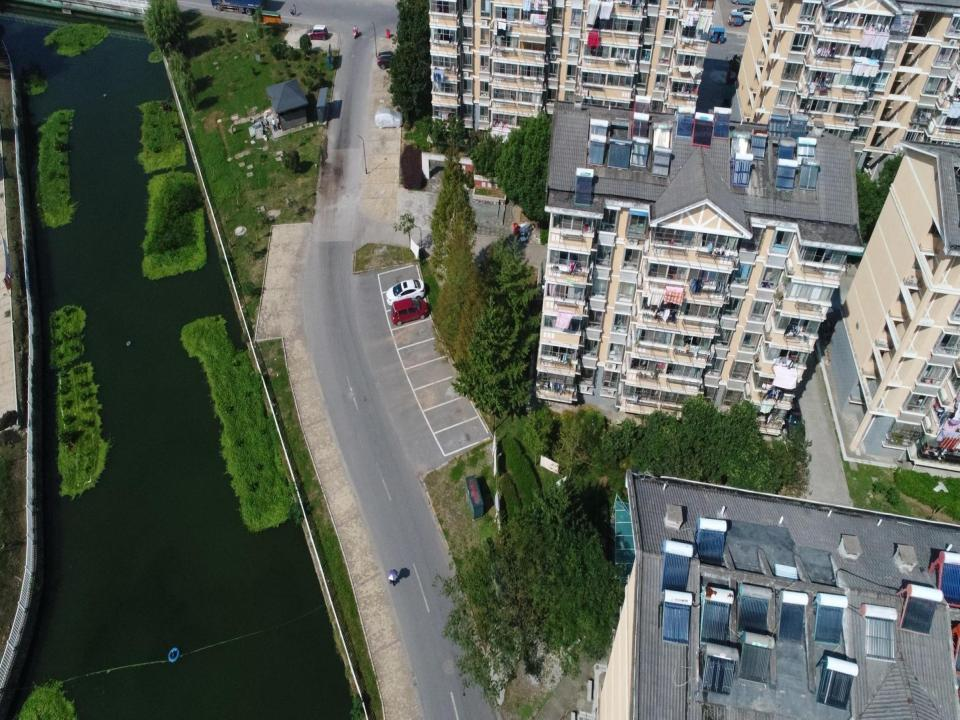car: (390, 297, 429, 326), (386, 277, 424, 306), (374, 108, 404, 128), (376, 50, 402, 71), (731, 7, 757, 24), (304, 24, 329, 41), (730, 0, 755, 5)
truck: (210, 0, 268, 15)
